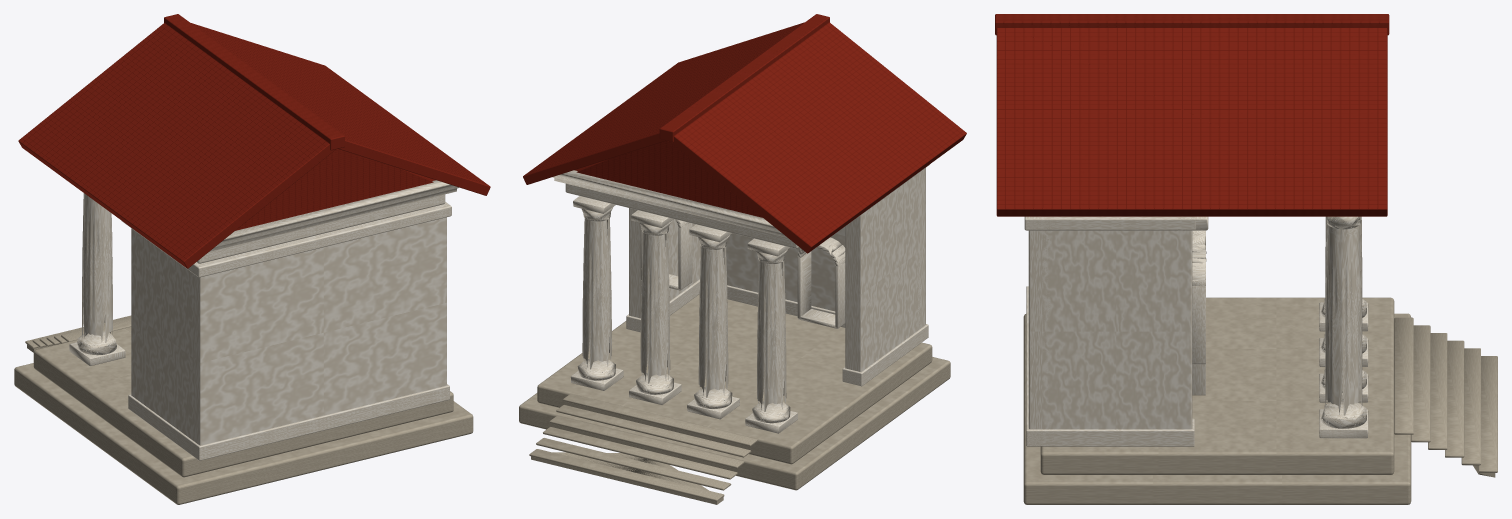
The model's file is temple_portico.glb.
3 renders of one model, left to right at view 1: azimuth 30°, elevation 25°; view 2: azimuth 150°, elevation 25°; view 3: azimuth 270°, elevation 25°, orthographic. The views are drawn at different scales.
Parts seen in each view (by area): view 1: temple_terracotta_roof, sanctuary_rear_wall, temple_podium_stereobate, sanctuary_right_wall, temple_podium_stylobate, ionic_column_4, temple_perimeter_frieze, temple_architrave_beam, temple_front_stairs; view 2: temple_terracotta_roof, temple_podium_stylobate, sanctuary_right_wall, temple_front_stairs, temple_podium_stereobate, sanctuary_rear_wall, ionic_column_1, ionic_column_4, ionic_column_3, ionic_column_2, sanctuary_facade_wall, temple_perimeter_frieze (+2 smaller); view 3: temple_terracotta_roof, sanctuary_left_wall, temple_podium_stylobate, temple_podium_stereobate, temple_front_stairs, ionic_column_1, sanctuary_rear_wall, sanctuary_facade_wall, ionic_column_2, ionic_column_3, ionic_column_4.
Boxes of the visible parts, x1,y1,x2,y2 form: temple_terracotta_roof: (18,14,490,268); sanctuary_rear_wall: (188,202,451,460); temple_podium_stereobate: (14,363,473,504); sanctuary_right_wall: (127,225,194,456); temple_podium_stylobate: (33,327,453,477); ionic_column_4: (69,193,125,365); temple_perimeter_frieze: (209,180,458,251); temple_architrave_beam: (197,194,445,263); temple_front_stairs: (25,315,131,352); temple_terracotta_roof: (523,14,966,253); temple_podium_stylobate: (537,294,932,464); sanctuary_right_wall: (842,172,923,386); temple_front_stairs: (529,394,757,504); temple_podium_stereobate: (519,357,950,490); sanctuary_rear_wall: (700,164,929,344); ionic_column_1: (570,196,623,390); ionic_column_4: (745,238,797,433); ionic_column_3: (687,224,739,419); ionic_column_2: (629,210,681,404); sanctuary_facade_wall: (640,208,869,328); temple_perimeter_frieze: (552,170,786,237); temple_terracotta_roof: (995,14,1389,216); sanctuary_left_wall: (1038,216,1195,446); temple_podium_stylobate: (1040,297,1394,474); temple_podium_stereobate: (1023,313,1411,504); temple_front_stairs: (1394,317,1497,477); ionic_column_1: (1319,216,1368,438); sanctuary_rear_wall: (1024,216,1054,446); sanctuary_facade_wall: (1178,216,1208,395); ionic_column_2: (1319,217,1368,402); ionic_column_3: (1319,216,1368,366); ionic_column_4: (1319,217,1368,331).
Bounding box in the file's own units: 4.97 × 5.28 × 5.97.
Materials: 3 (3 with a texture image).
